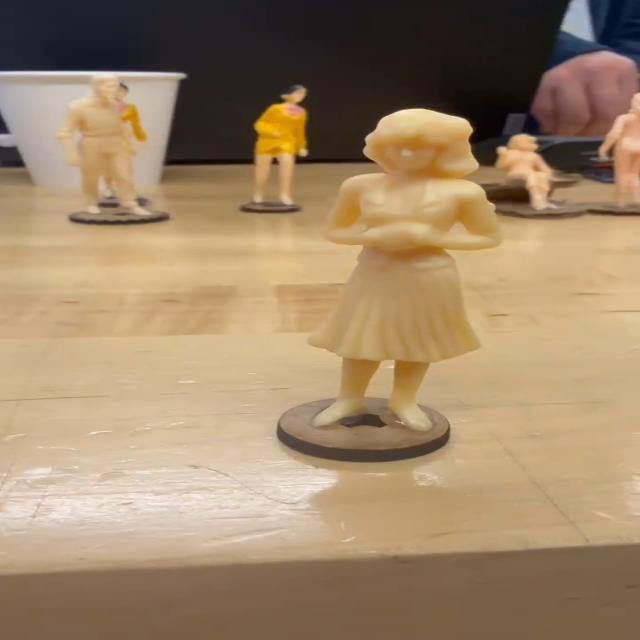Unauthorized: (311, 91, 483, 430)
